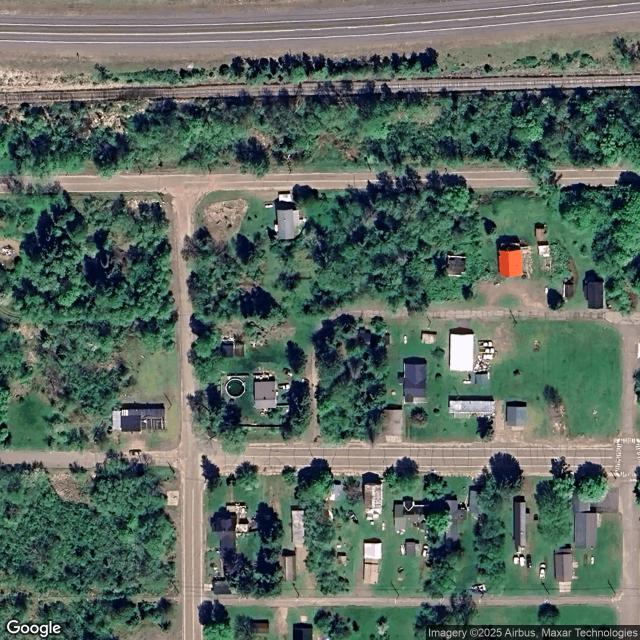Propane: (462, 380, 472, 384), (265, 204, 273, 208), (404, 335, 407, 345), (382, 521, 385, 531), (591, 556, 594, 565)
